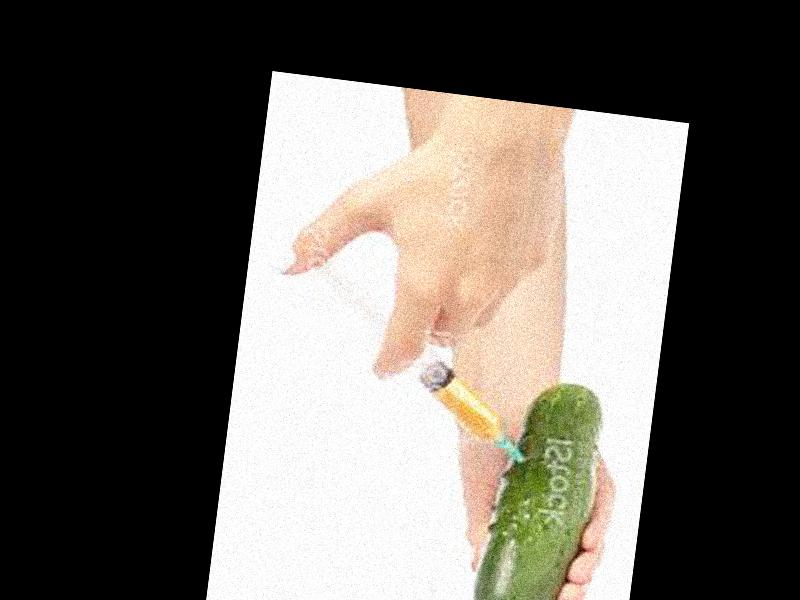Cucumber: (469, 375, 601, 600)
